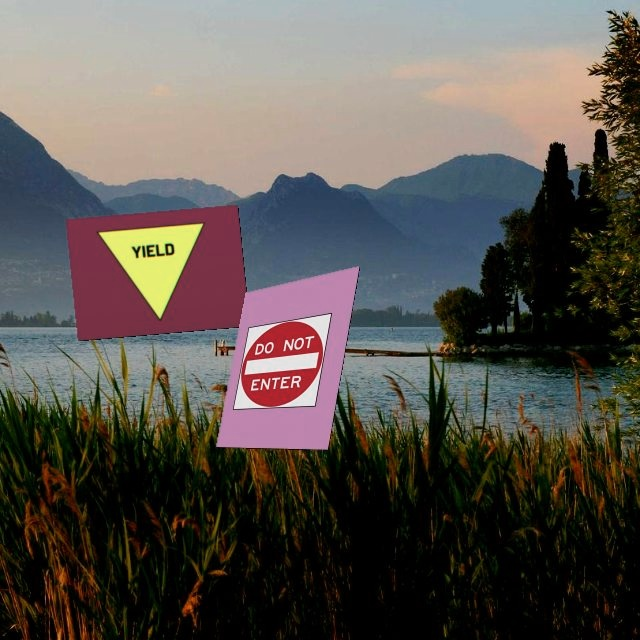DO_NOT_ENTER: (233, 310, 332, 413)
YIELD: (97, 222, 215, 326)
